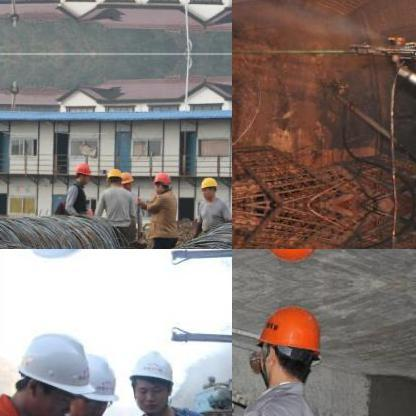Helmet: (247, 294, 328, 388), (14, 322, 90, 415), (121, 342, 179, 415), (70, 349, 119, 415), (247, 249, 330, 272), (14, 249, 92, 268), (198, 172, 218, 200), (149, 170, 171, 192), (72, 160, 92, 184), (105, 165, 124, 187), (116, 170, 134, 191)
